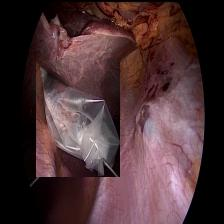Specimen Bag: (35, 59, 119, 176)
